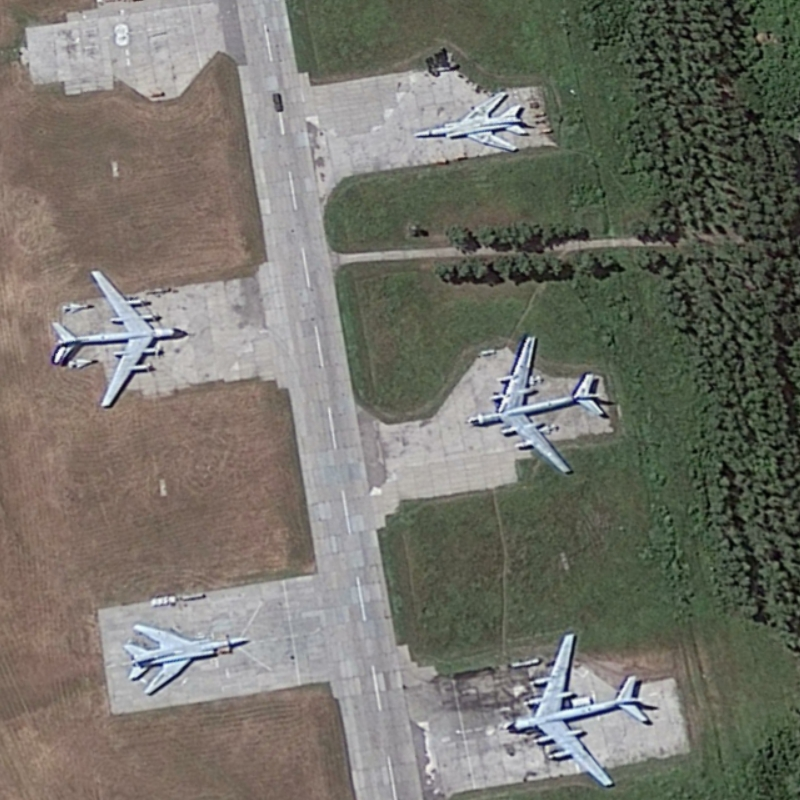A12: (121, 622, 252, 697), (410, 90, 528, 154)
A17: (504, 631, 651, 789), (48, 267, 189, 410), (465, 334, 607, 475)
